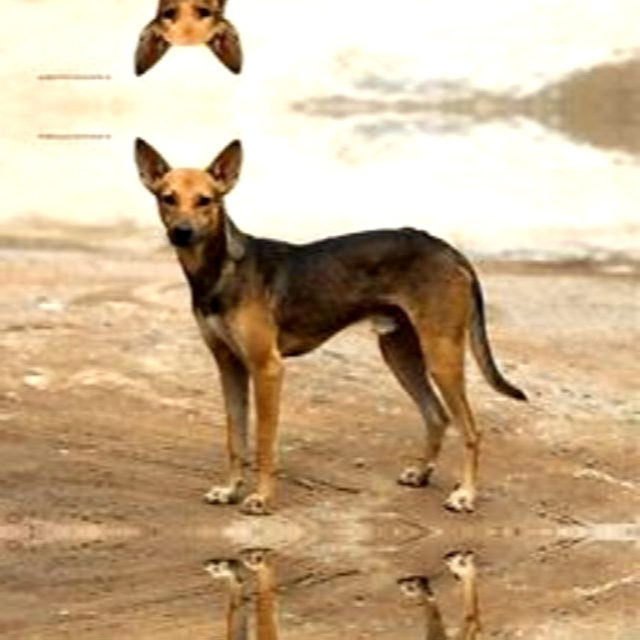dog: (81, 119, 551, 533), (81, 533, 551, 640), (81, 0, 551, 95)
